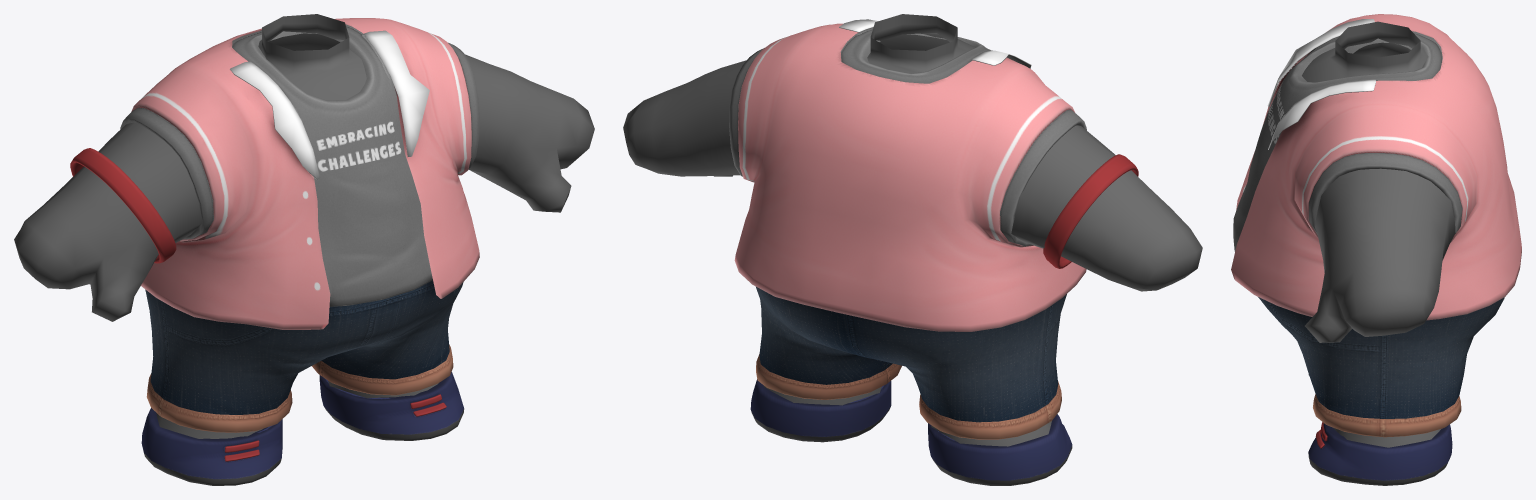
The picture shows the model from 3 angles, left to right: view 1: azimuth 30°, elevation 25°; view 2: azimuth 150°, elevation 25°; view 3: azimuth 270°, elevation 25°; orthographic projection. The views are drawn at different scales.
Visible parts, largest first — view 1: OM6, Body_low; view 2: OM6, Body_low; view 3: OM6, Body_low.
Boxes of the visible parts, x1=… form: OM6: x1=70, y1=18, x2=479, y2=485; Body_low: x1=14, y1=14, x2=594, y2=438; OM6: x1=729, y1=19, x2=1138, y2=485; Body_low: x1=623, y1=14, x2=1202, y2=446; OM6: x1=1231, y1=14, x2=1521, y2=485; Body_low: x1=1302, y1=21, x2=1455, y2=447.
Bounding box in the file's own units: 45.76 × 31.07 × 21.49.
Materials: 2 (1 with a texture image).
